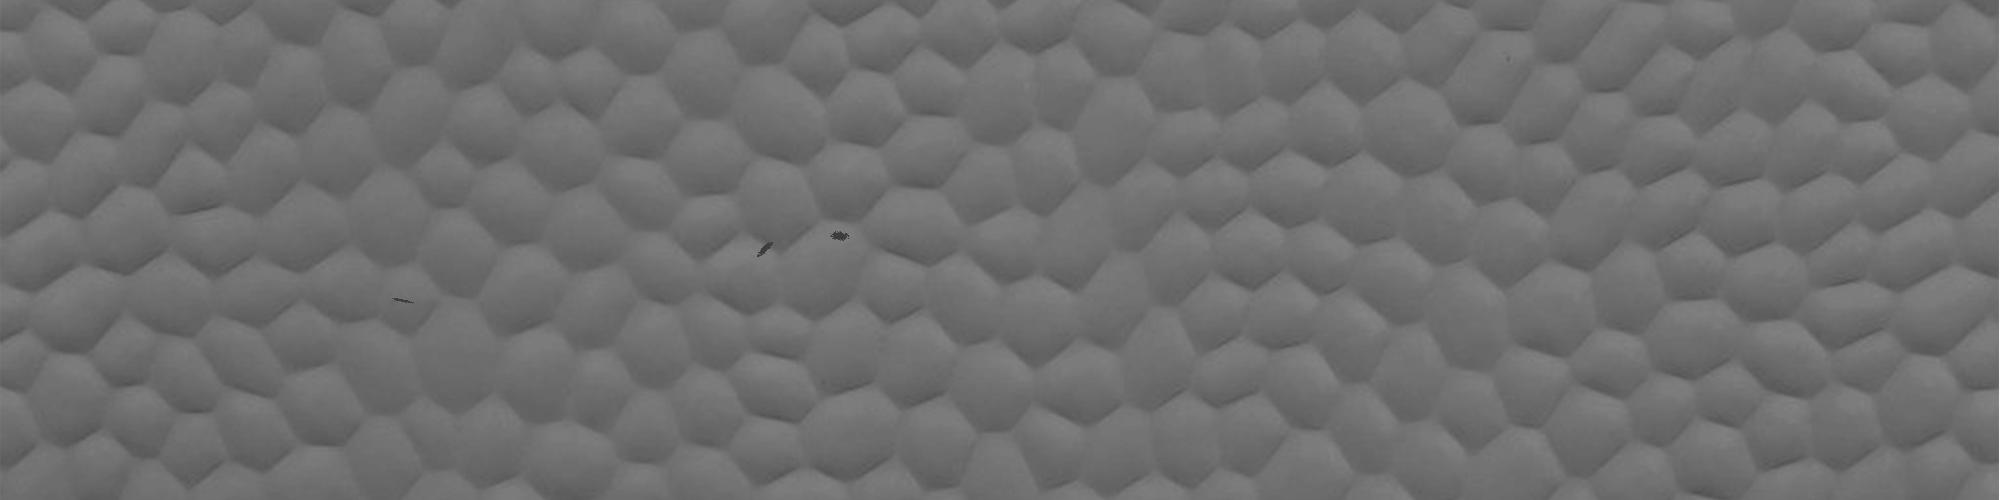Decomposed: (744, 236, 790, 274), (819, 219, 856, 254), (386, 288, 421, 320), (818, 375, 860, 398), (1819, 171, 1844, 203), (1497, 52, 1526, 75), (934, 332, 949, 349)
